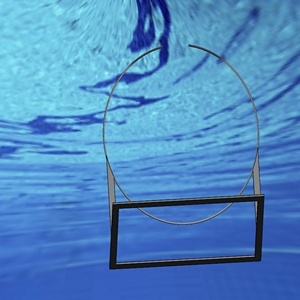circle: (102, 42, 264, 269)
